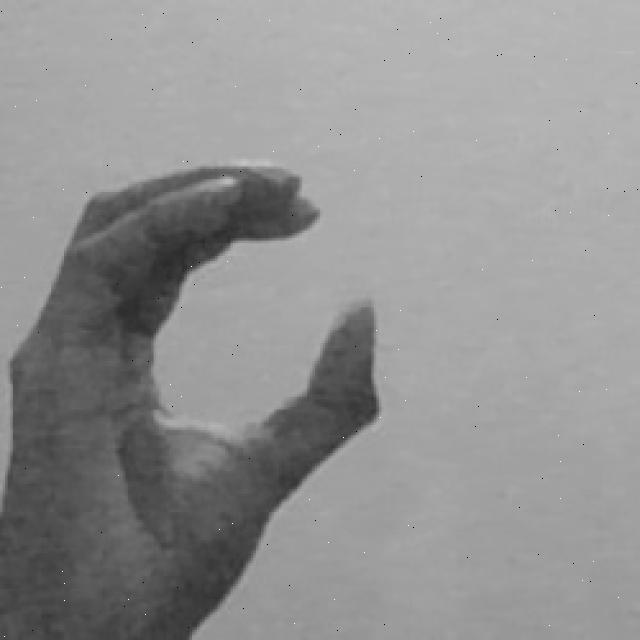C: (2, 153, 384, 640)
